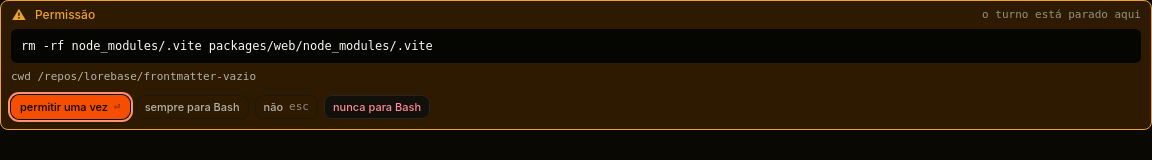
Test: answering › disables every option once one is taken
Click the button "permitir uma vez ⏎" at (70, 107), box [11, 95, 130, 119]
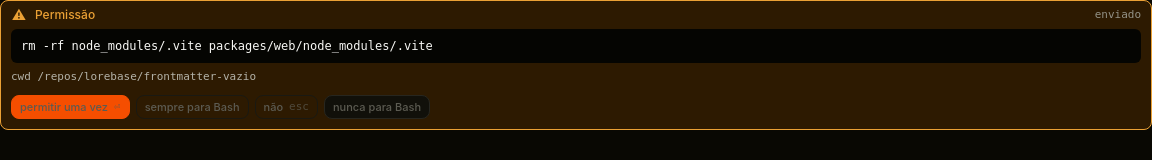
Now the button "permitir uma vez ⏎" is disabled, box [11, 95, 130, 119]
Now the button "sempre para Bash" is disabled, box [136, 95, 249, 119]
Now the button "não esc" is disabled, box [255, 95, 318, 119]
